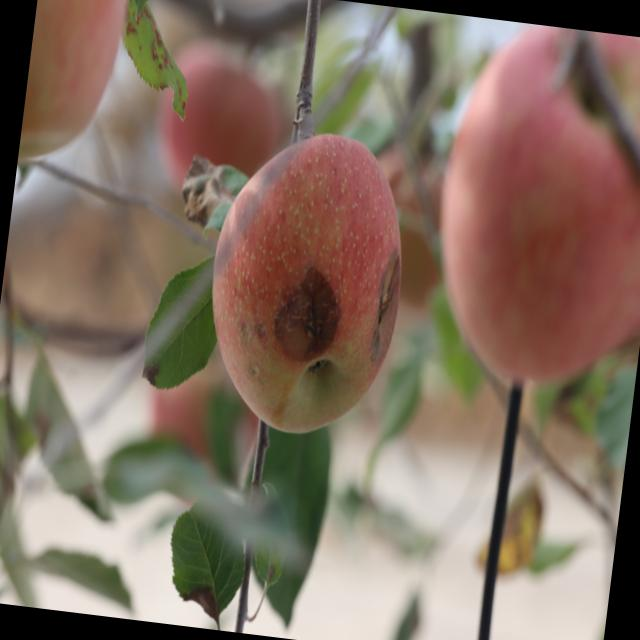rotten: (191, 119, 431, 454)
